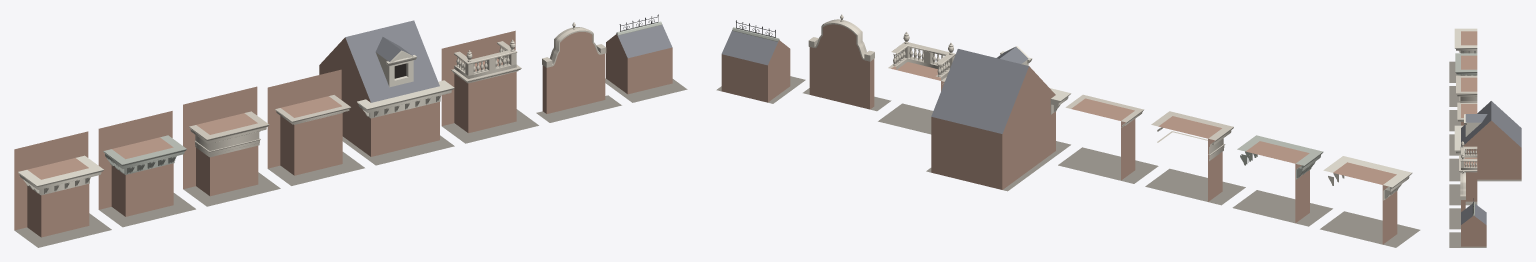
The model's file is k10_cornice_kit.glb.
The picture shows the model from 3 angles, left to right: view 1: azimuth 30°, elevation 25°; view 2: azimuth 150°, elevation 25°; view 3: azimuth 270°, elevation 25°; orthographic projection. The views are drawn at different scales.
Visible parts, largest first — view 1: k10.dormer.pedimented_on_bracketed_eave, k10.entablature.classical_dentil, k10.cornice.bracketed_timber, k10.cornice.pressed_metal, k10.cornice.moulded_stone, k10.parapet.balustrade_urns, k10.gable.shaped_coping, k10.cresting.iron_ridge; view 2: k10.dormer.pedimented_on_bracketed_eave, k10.gable.shaped_coping, k10.cresting.iron_ridge, k10.cornice.bracketed_timber, k10.cornice.pressed_metal, k10.entablature.classical_dentil, k10.cornice.moulded_stone, k10.parapet.balustrade_urns; view 3: k10.dormer.pedimented_on_bracketed_eave, k10.cresting.iron_ridge, k10.parapet.balustrade_urns, k10.entablature.classical_dentil, k10.cornice.bracketed_timber, k10.cornice.pressed_metal, k10.gable.shaped_coping, k10.cornice.moulded_stone.
Part boxes in pixels (left/top/right/bottom): k10.dormer.pedimented_on_bracketed_eave: left=319, top=20, right=454, bottom=165; k10.entablature.classical_dentil: left=183, top=86, right=280, bottom=206; k10.cornice.bracketed_timber: left=14, top=131, right=111, bottom=247; k10.cornice.pressed_metal: left=98, top=111, right=195, bottom=227; k10.cornice.moulded_stone: left=267, top=69, right=364, bottom=185; k10.parapet.balustrade_urns: left=441, top=30, right=538, bottom=143; k10.gable.shaped_coping: left=536, top=22, right=621, bottom=122; k10.cresting.iron_ridge: left=605, top=14, right=687, bottom=102; k10.dormer.pedimented_on_bracketed_eave: left=926, top=46, right=1070, bottom=191; k10.gable.shaped_coping: left=803, top=14, right=891, bottom=111; k10.cresting.iron_ridge: left=716, top=20, right=805, bottom=103; k10.cornice.bracketed_timber: left=1320, top=156, right=1420, bottom=247; k10.cornice.pressed_metal: left=1232, top=135, right=1332, bottom=226; k10.entablature.classical_dentil: left=1145, top=111, right=1245, bottom=205; k10.cornice.moulded_stone: left=1058, top=94, right=1158, bottom=183; k10.parapet.balustrade_urns: left=878, top=32, right=955, bottom=134; k10.dormer.pedimented_on_bracketed_eave: left=1449, top=101, right=1521, bottom=181; k10.cresting.iron_ridge: left=1449, top=198, right=1486, bottom=247; k10.parapet.balustrade_urns: left=1449, top=141, right=1477, bottom=205; k10.entablature.classical_dentil: left=1449, top=75, right=1477, bottom=131; k10.cornice.bracketed_timber: left=1449, top=28, right=1477, bottom=82; k10.cornice.pressed_metal: left=1449, top=53, right=1477, bottom=106; k10.gable.shaped_coping: left=1449, top=170, right=1465, bottom=229; k10.cornice.moulded_stone: left=1449, top=102, right=1477, bottom=155.
Bounding box in the file's own units: 37.7 × 5.6 × 6.2.
